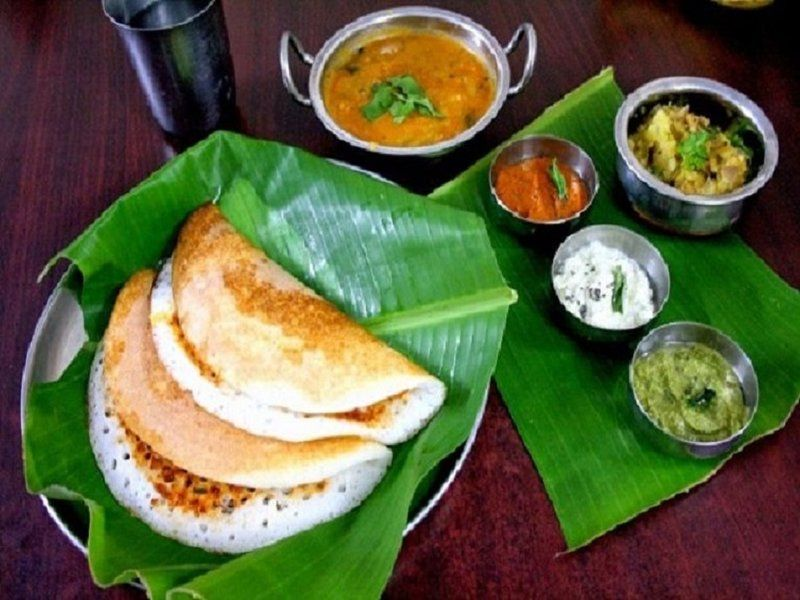dosa: (87, 201, 447, 556)
